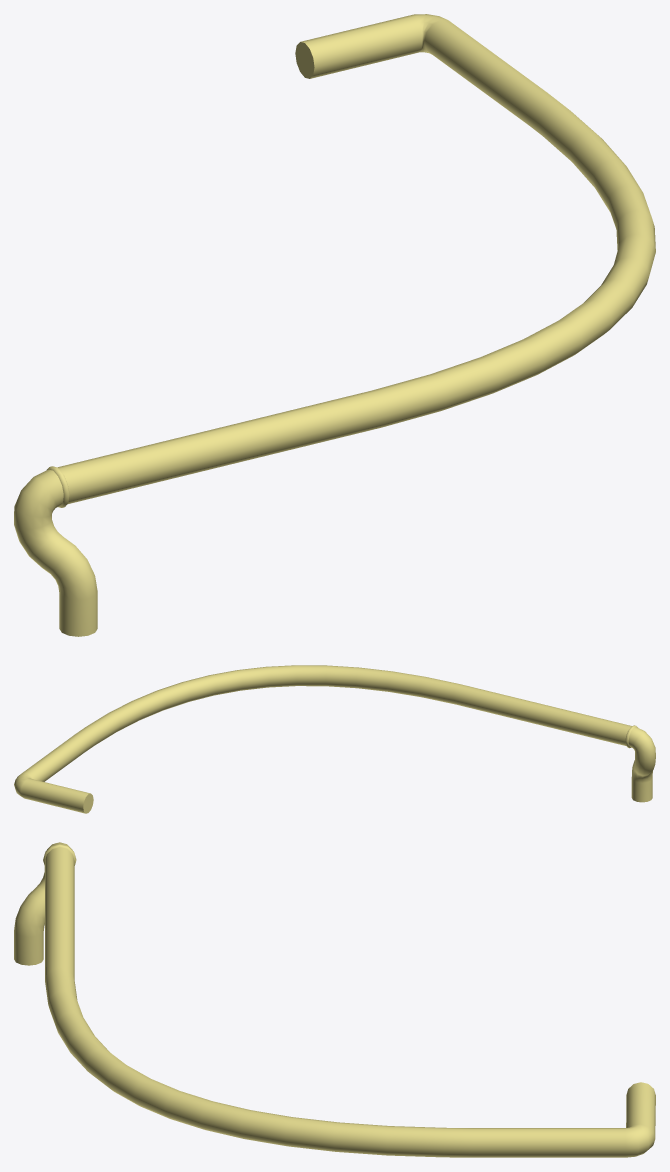
File: SP_House08_Pipe01.fbx
3 renders of one model, top to bottom at view 1: azimuth 30°, elevation 25°; view 2: azimuth 150°, elevation 25°; view 3: azimuth 270°, elevation 25°, orthographic. The views are drawn at different scales.
Visible parts, largest first — view 1: SP_House08_Pipe01; view 2: SP_House08_Pipe01; view 3: SP_House08_Pipe01.
Boxes of the visible parts, <box> form: SP_House08_Pipe01: <box>14,14,655,636</box>; SP_House08_Pipe01: <box>14,665,655,813</box>; SP_House08_Pipe01: <box>14,842,655,1157</box>.
Bounding box in the file's own units: 3.14 × 0.5466 × 2.8.
